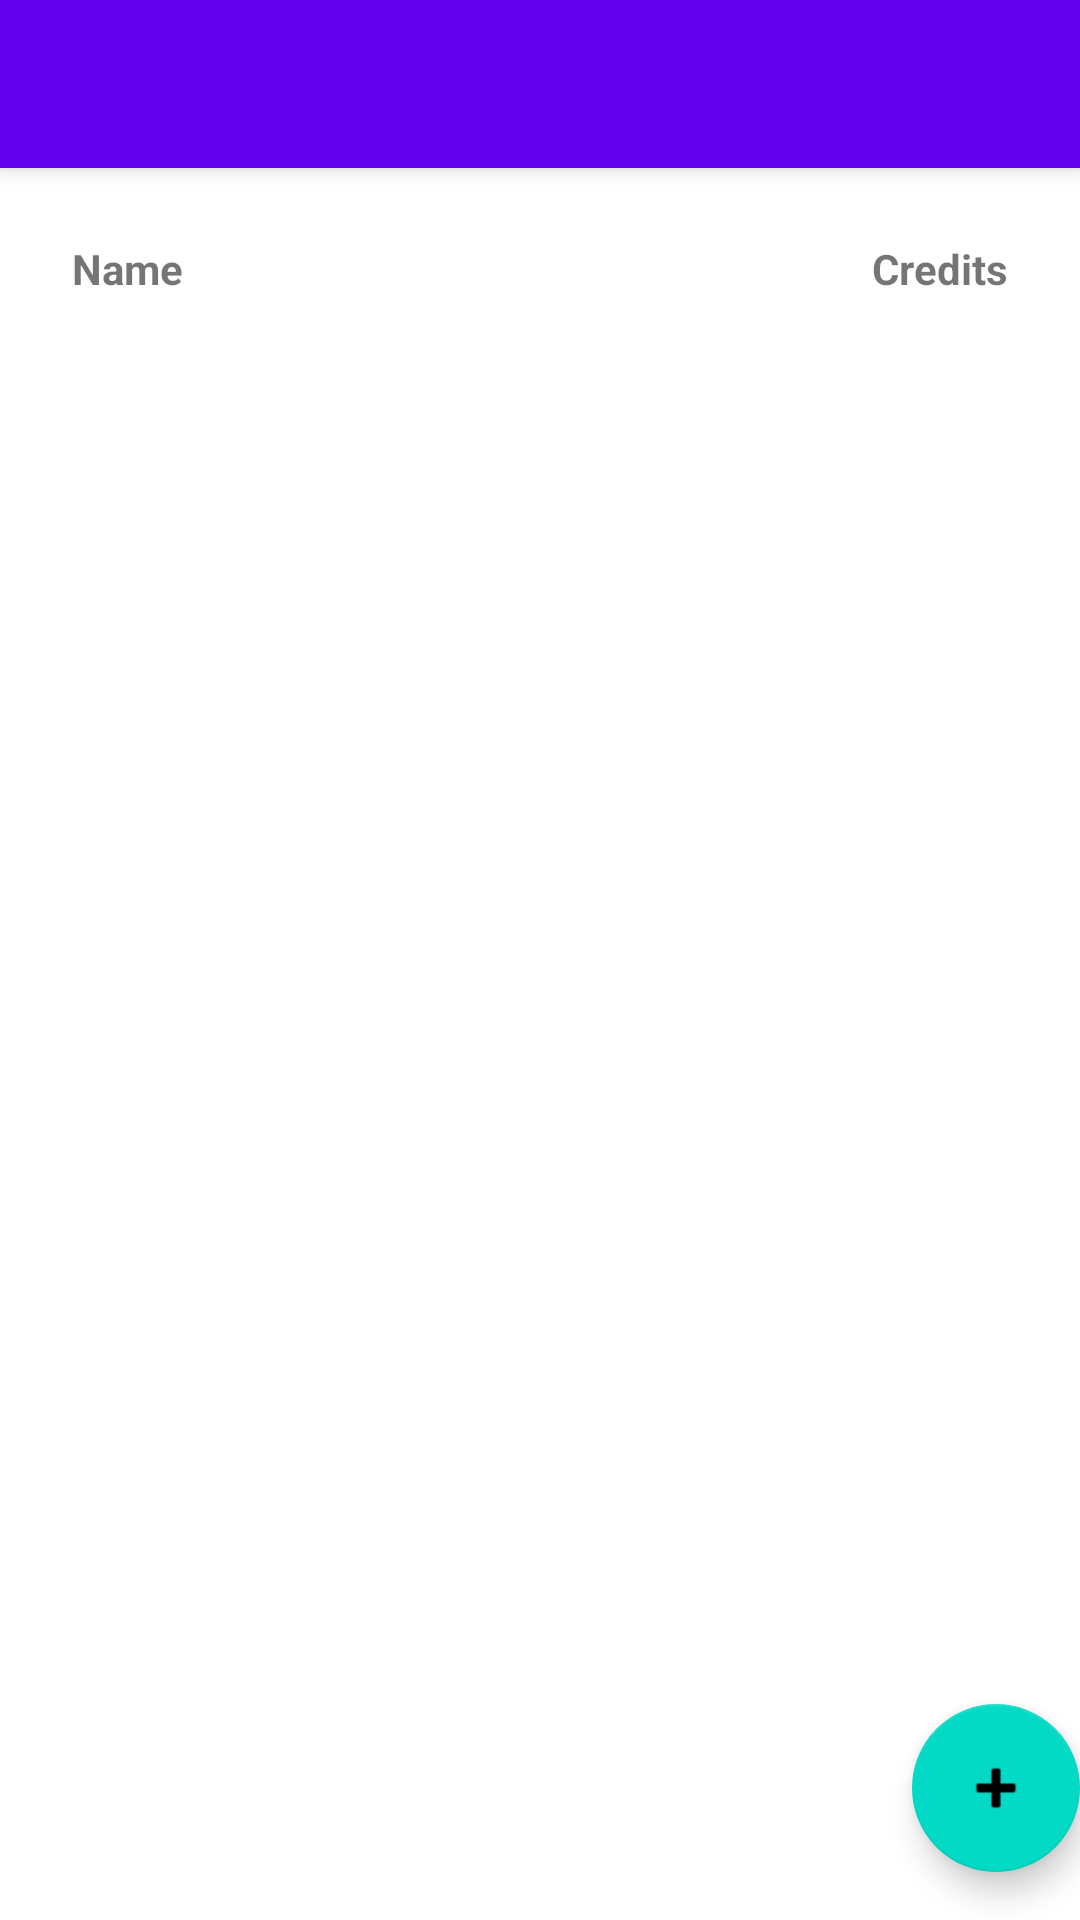

Icon click points for this 1080w x 1920h phone screenshot, format (x,y):
Add student: (996,1788)
